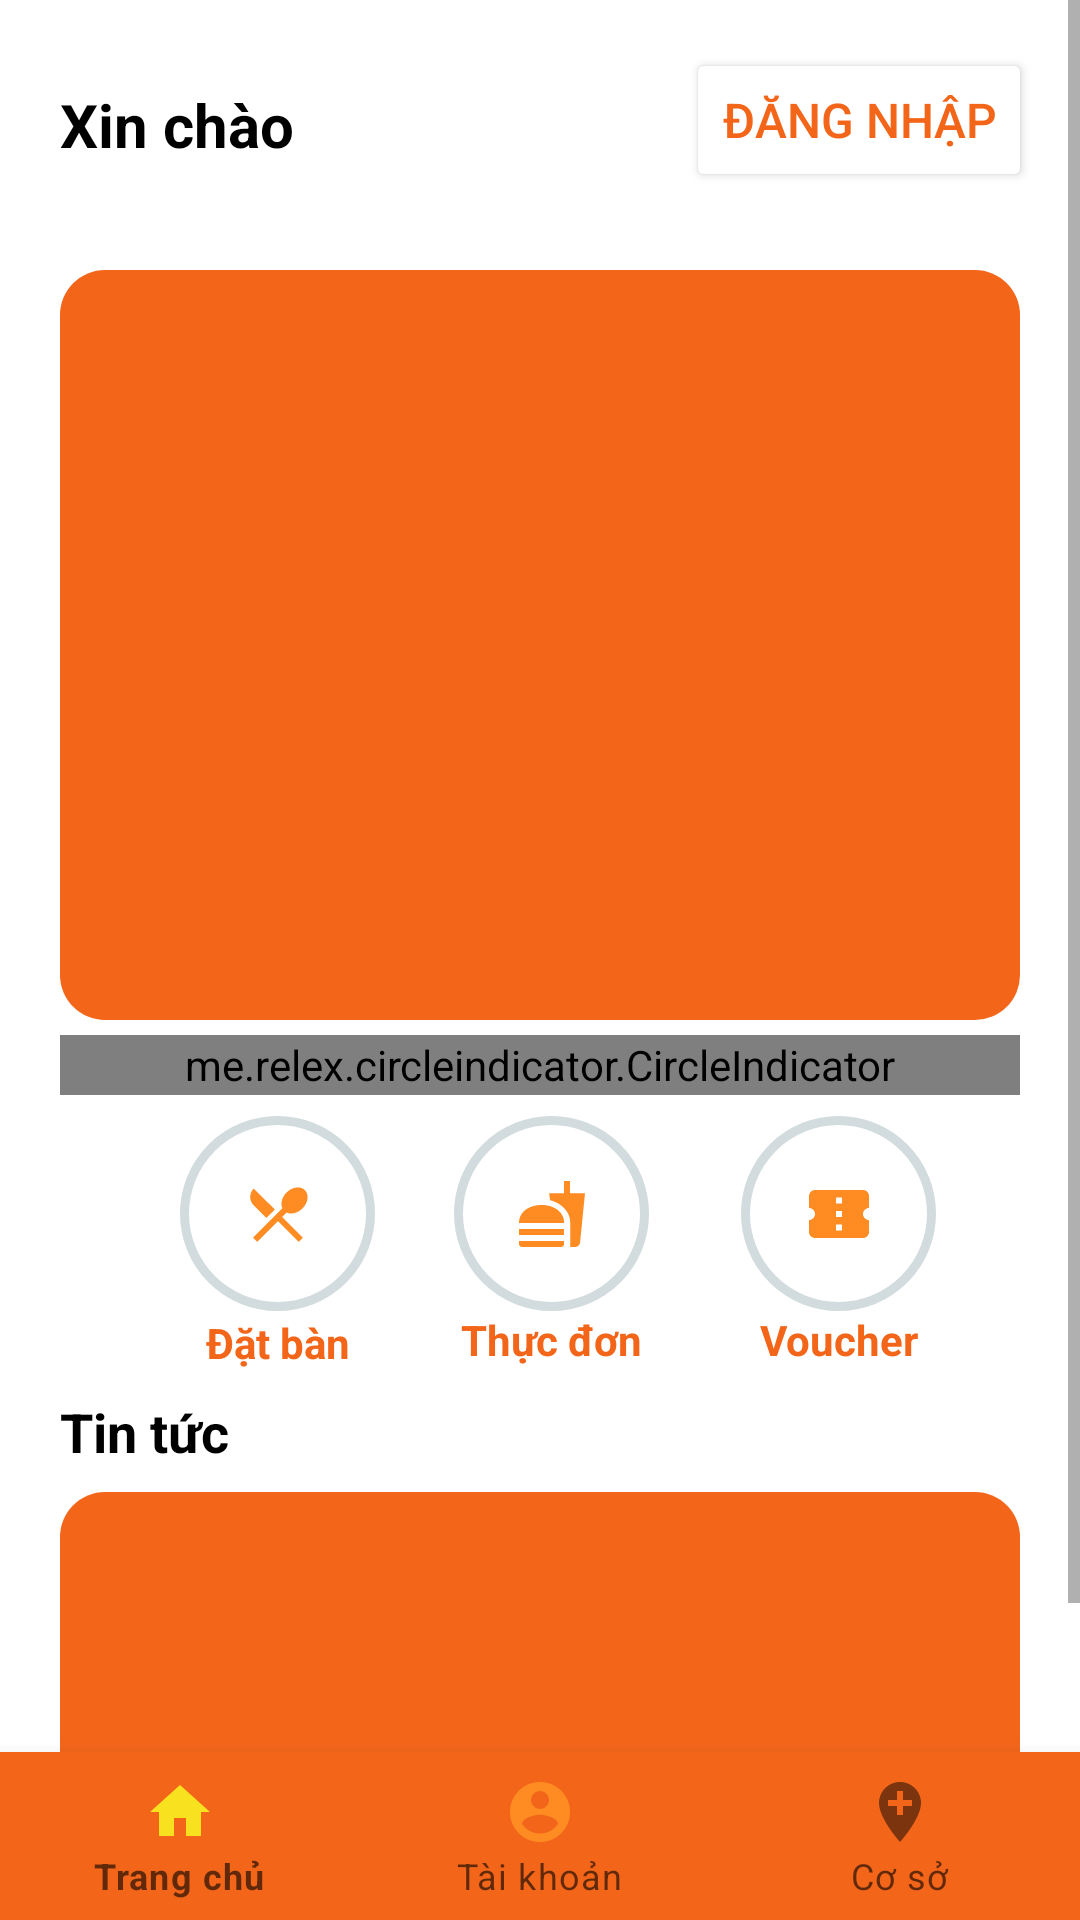

Icons on this 1080x1920 Android screen, each with the point to tap as point (x, y):
confirmation number: point (838, 1213)
fastfood: point (551, 1213)
local dining: point (277, 1213)
